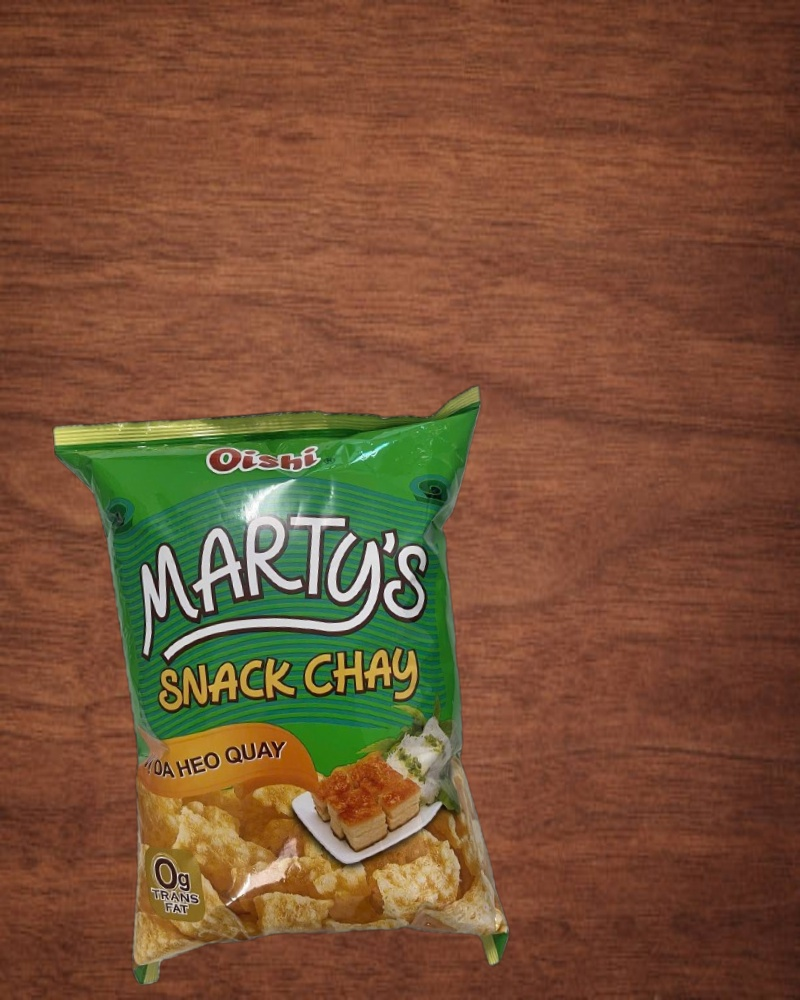Snack chay: (53, 385, 531, 1000)
